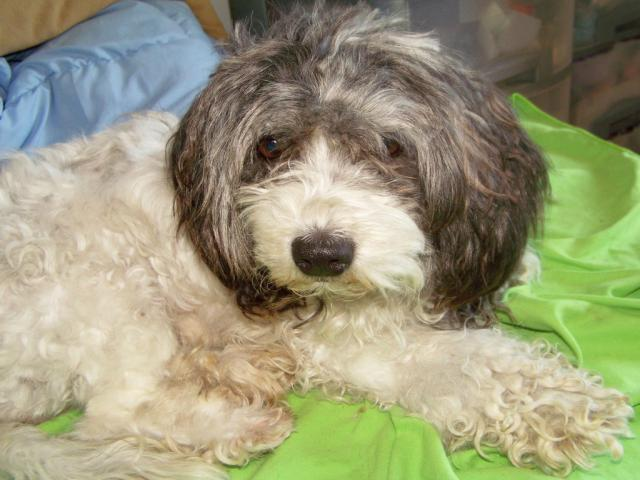Dog: (0, 4, 638, 480)
